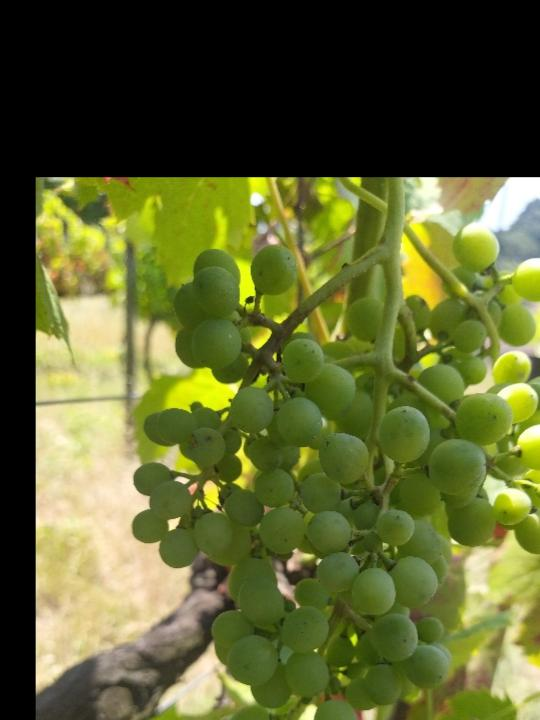grape: (128, 218, 540, 720)
